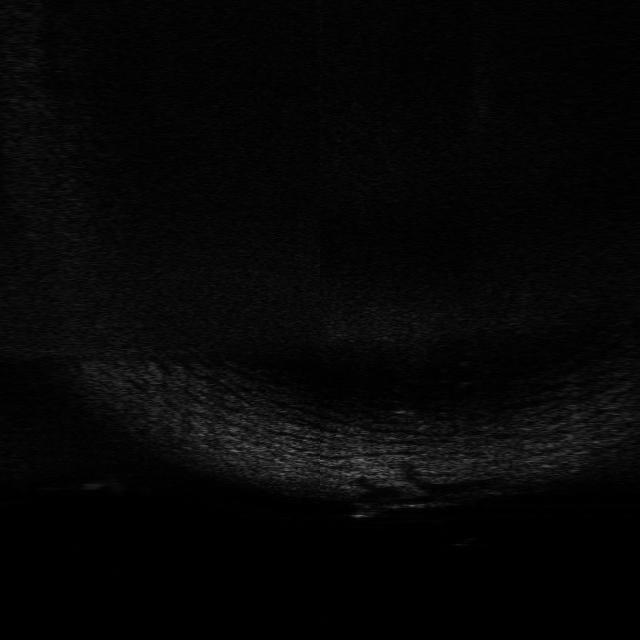plane: (346, 496, 458, 522)
